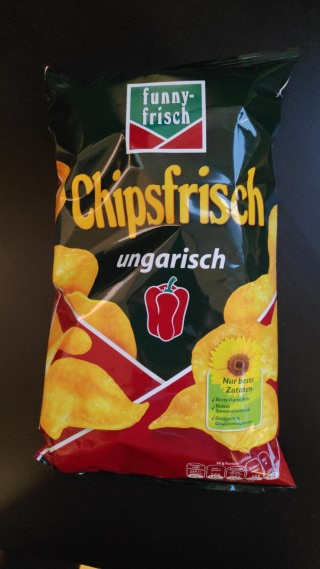chipsfrisch: (30, 46, 303, 492)
